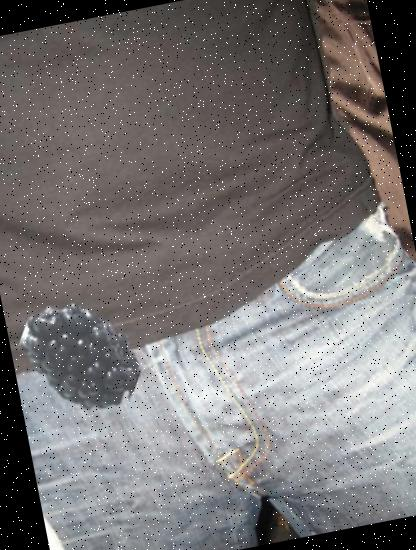Mulberry: (8, 283, 152, 428)
